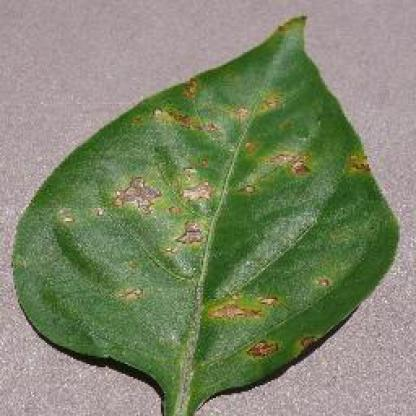bad leaf: (31, 21, 388, 408)
